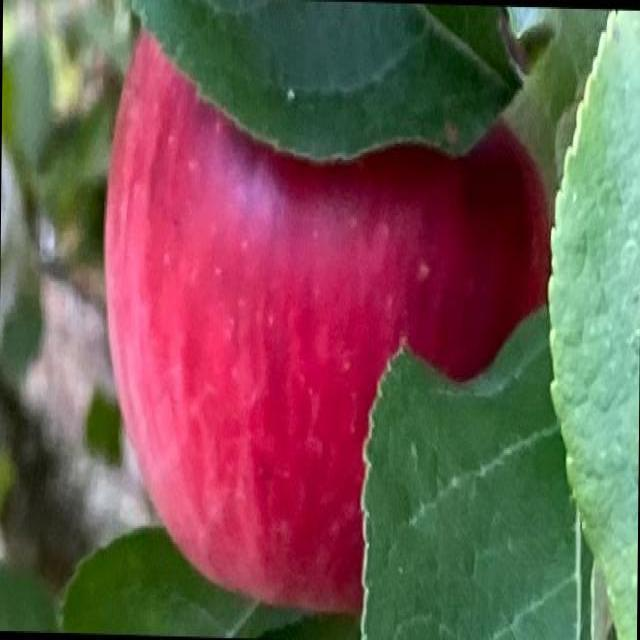Apple: (102, 23, 555, 617)
